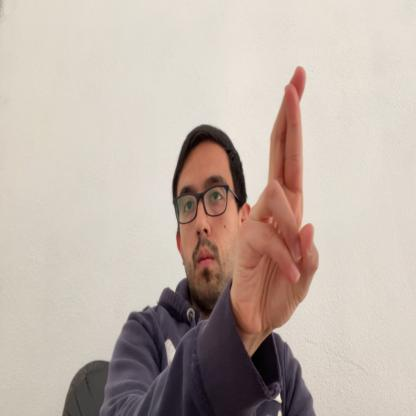R: (232, 65, 320, 346)
